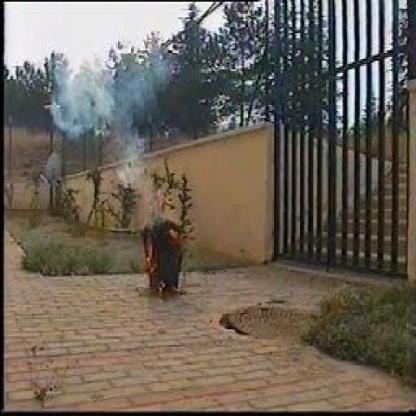-: (54, 54, 134, 131)
foggia-v2-map80-epoch100 - v1 4323: (140, 225, 160, 272)
